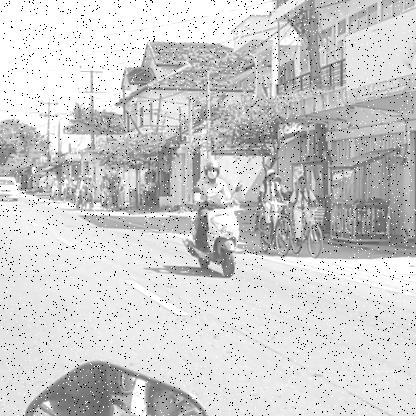motorcycle: (182, 196, 244, 281)
